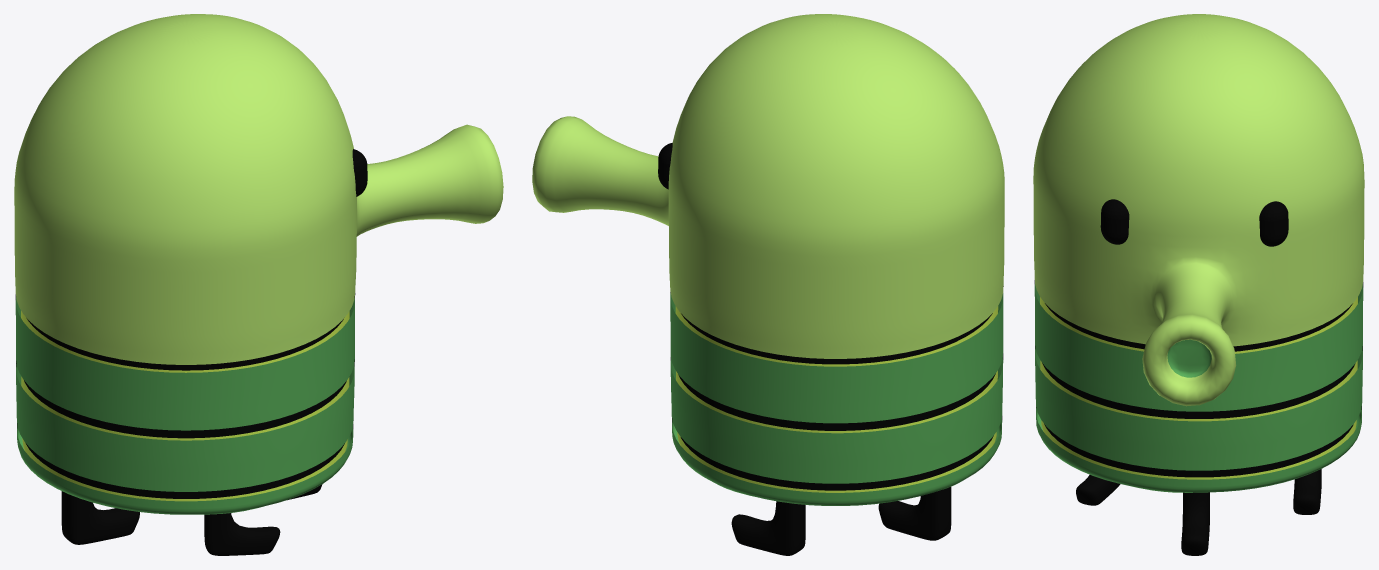
Rendered from DoodleJump.fbx.
The picture shows the model from 3 angles, left to right: view 1: azimuth 30°, elevation 25°; view 2: azimuth 150°, elevation 25°; view 3: azimuth 270°, elevation 25°; orthographic projection. The views are drawn at different scales.
Parts seen in each view (by area): view 1: Sphere, Cube.001, Cube.002; view 2: Sphere, Cube.003, Cube.001; view 3: Sphere, Sphere.001, Cube, Cube.003, Cube.002.
Boxes of the visible parts, x1,y1,x2,y2 form: Sphere: [14, 14, 503, 514]; Cube.001: [61, 491, 139, 544]; Cube.002: [204, 513, 280, 555]; Sphere: [532, 14, 1004, 505]; Cube.003: [731, 501, 805, 555]; Cube.001: [878, 487, 951, 540]; Sphere: [1033, 14, 1364, 492]; Sphere.001: [1100, 199, 1288, 246]; Cube: [1181, 492, 1209, 555]; Cube.003: [1293, 469, 1321, 514]; Cube.002: [1076, 475, 1120, 505].
Size of the model in its own units: 290 by 306 by 195.
